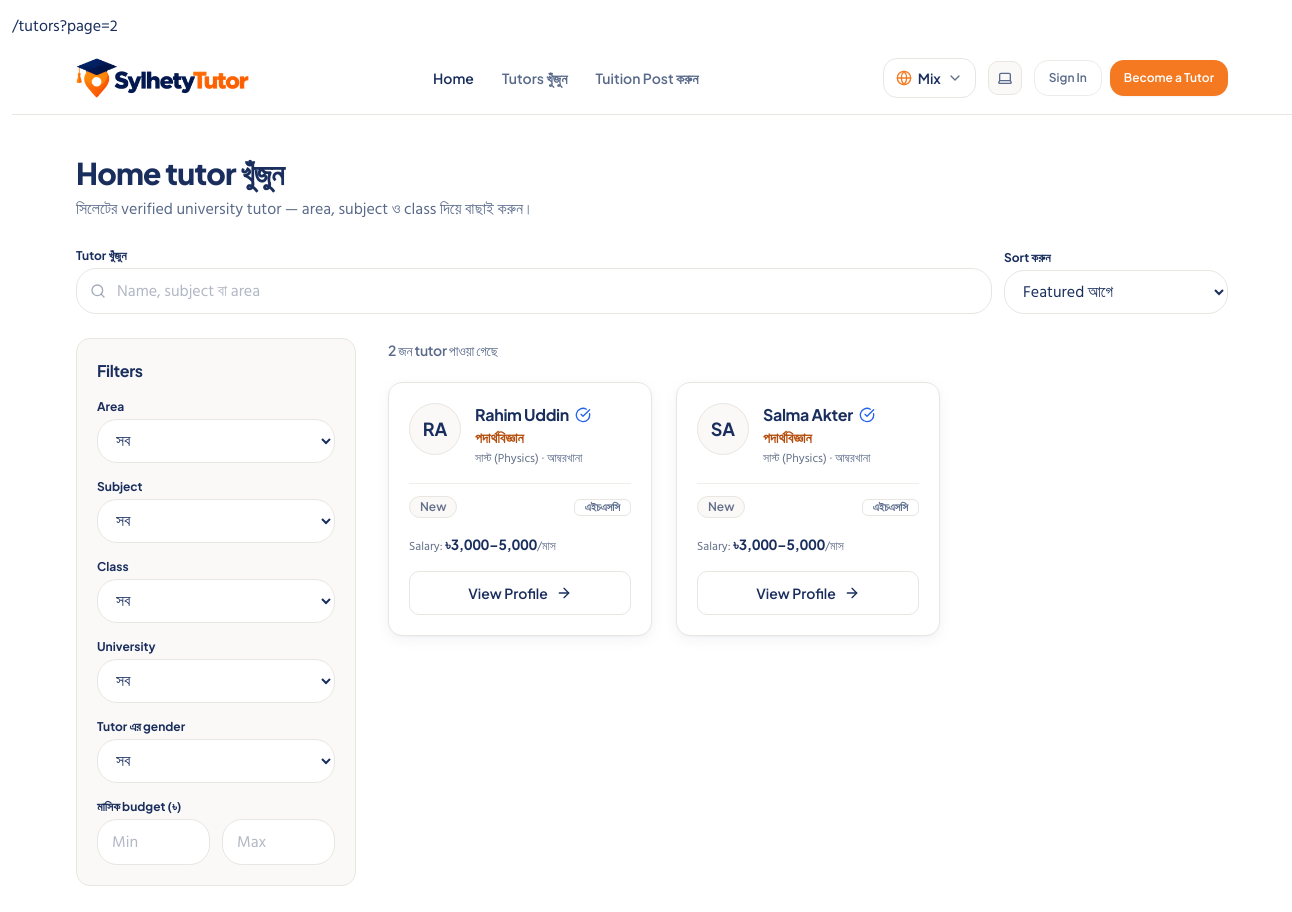
Test: Search page › changing the sort goes back to page 1
Expected: the heading "Rahim Uddin" is shown, [475,403,569,427]
Select "সবচেয়ে নতুন" in the dropdown labelled "Sort করুন" at (1116, 292), box [1004,270,1228,314]
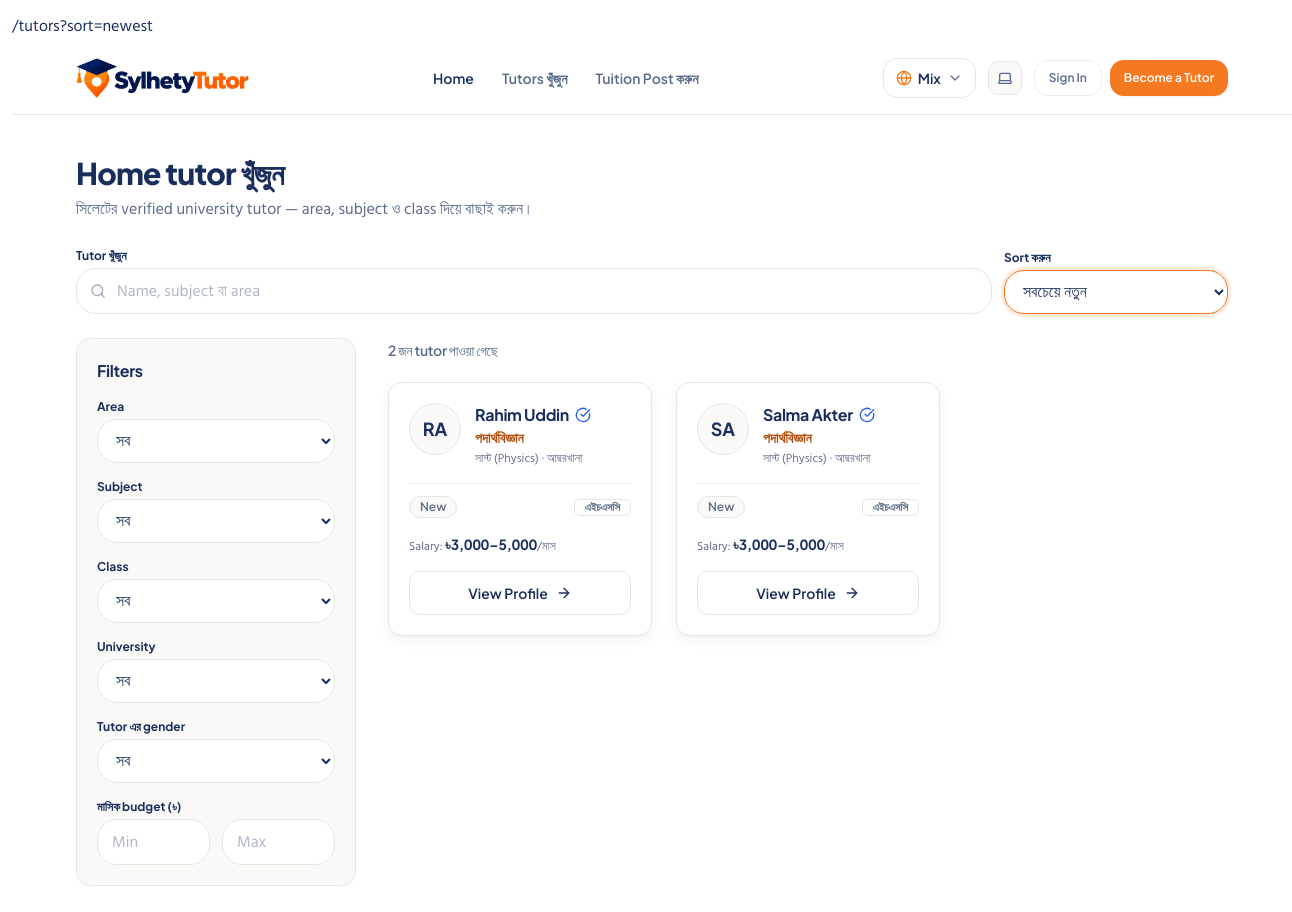
Expected: the text with test id "url" reads "/tutors?sort=newest", [12,13,153,39]
